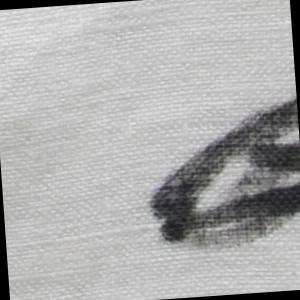Stain: (136, 91, 300, 265)
